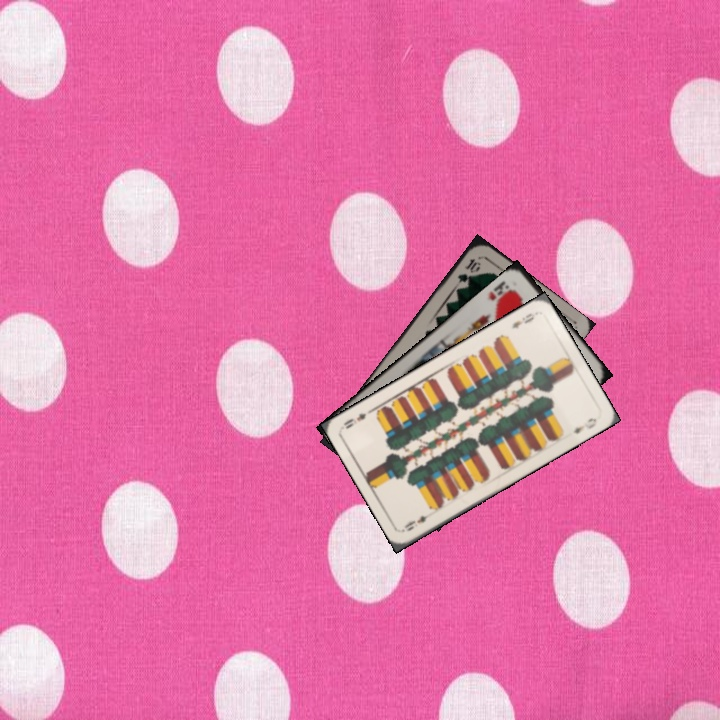E9: (400, 507, 437, 534), (508, 309, 539, 332)
G10: (452, 254, 483, 289)
HK: (484, 276, 517, 307)
